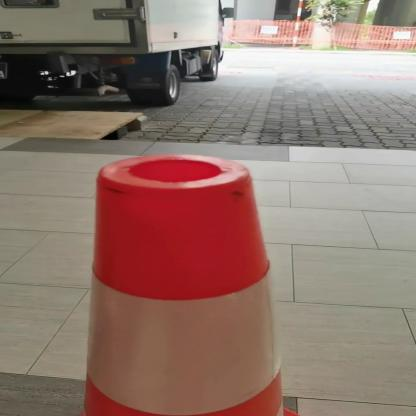cone: (53, 147, 309, 416)
